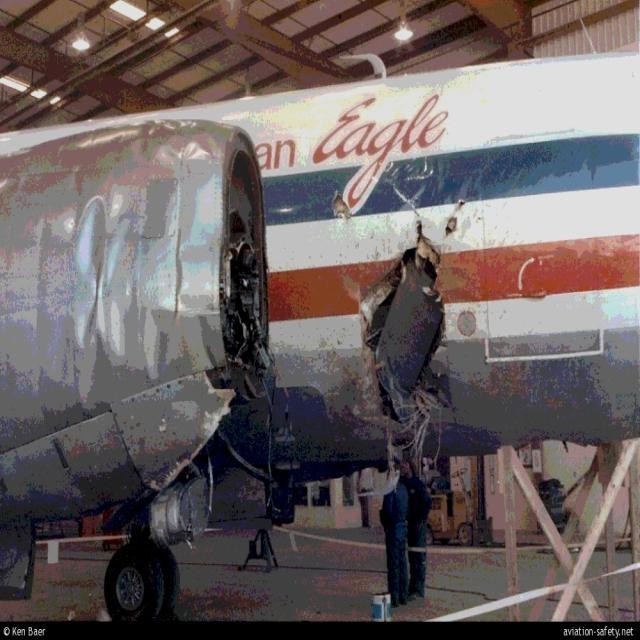dent: (73, 197, 115, 284)
